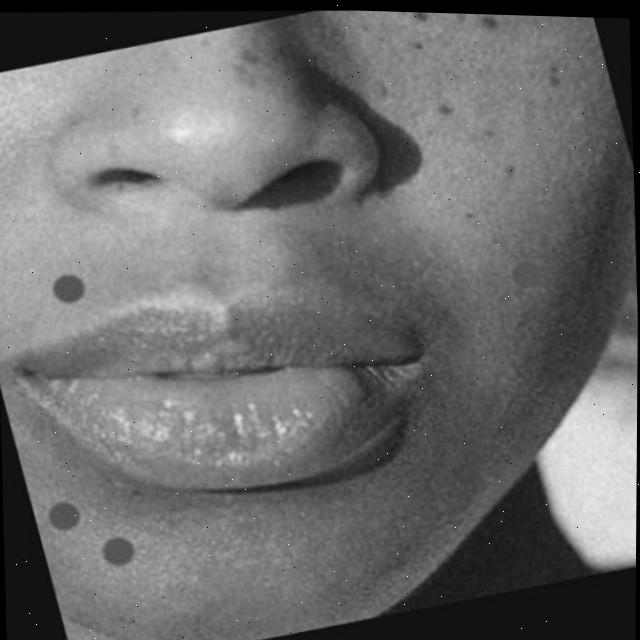Acne: (385, 11, 541, 181)
